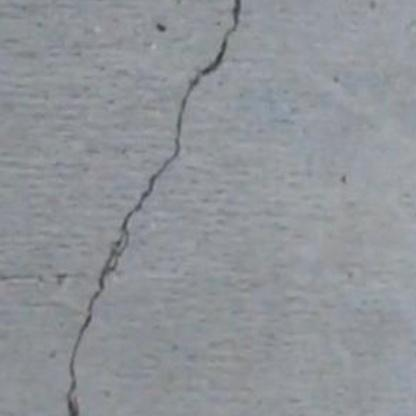Cracks: (52, 0, 261, 416)
